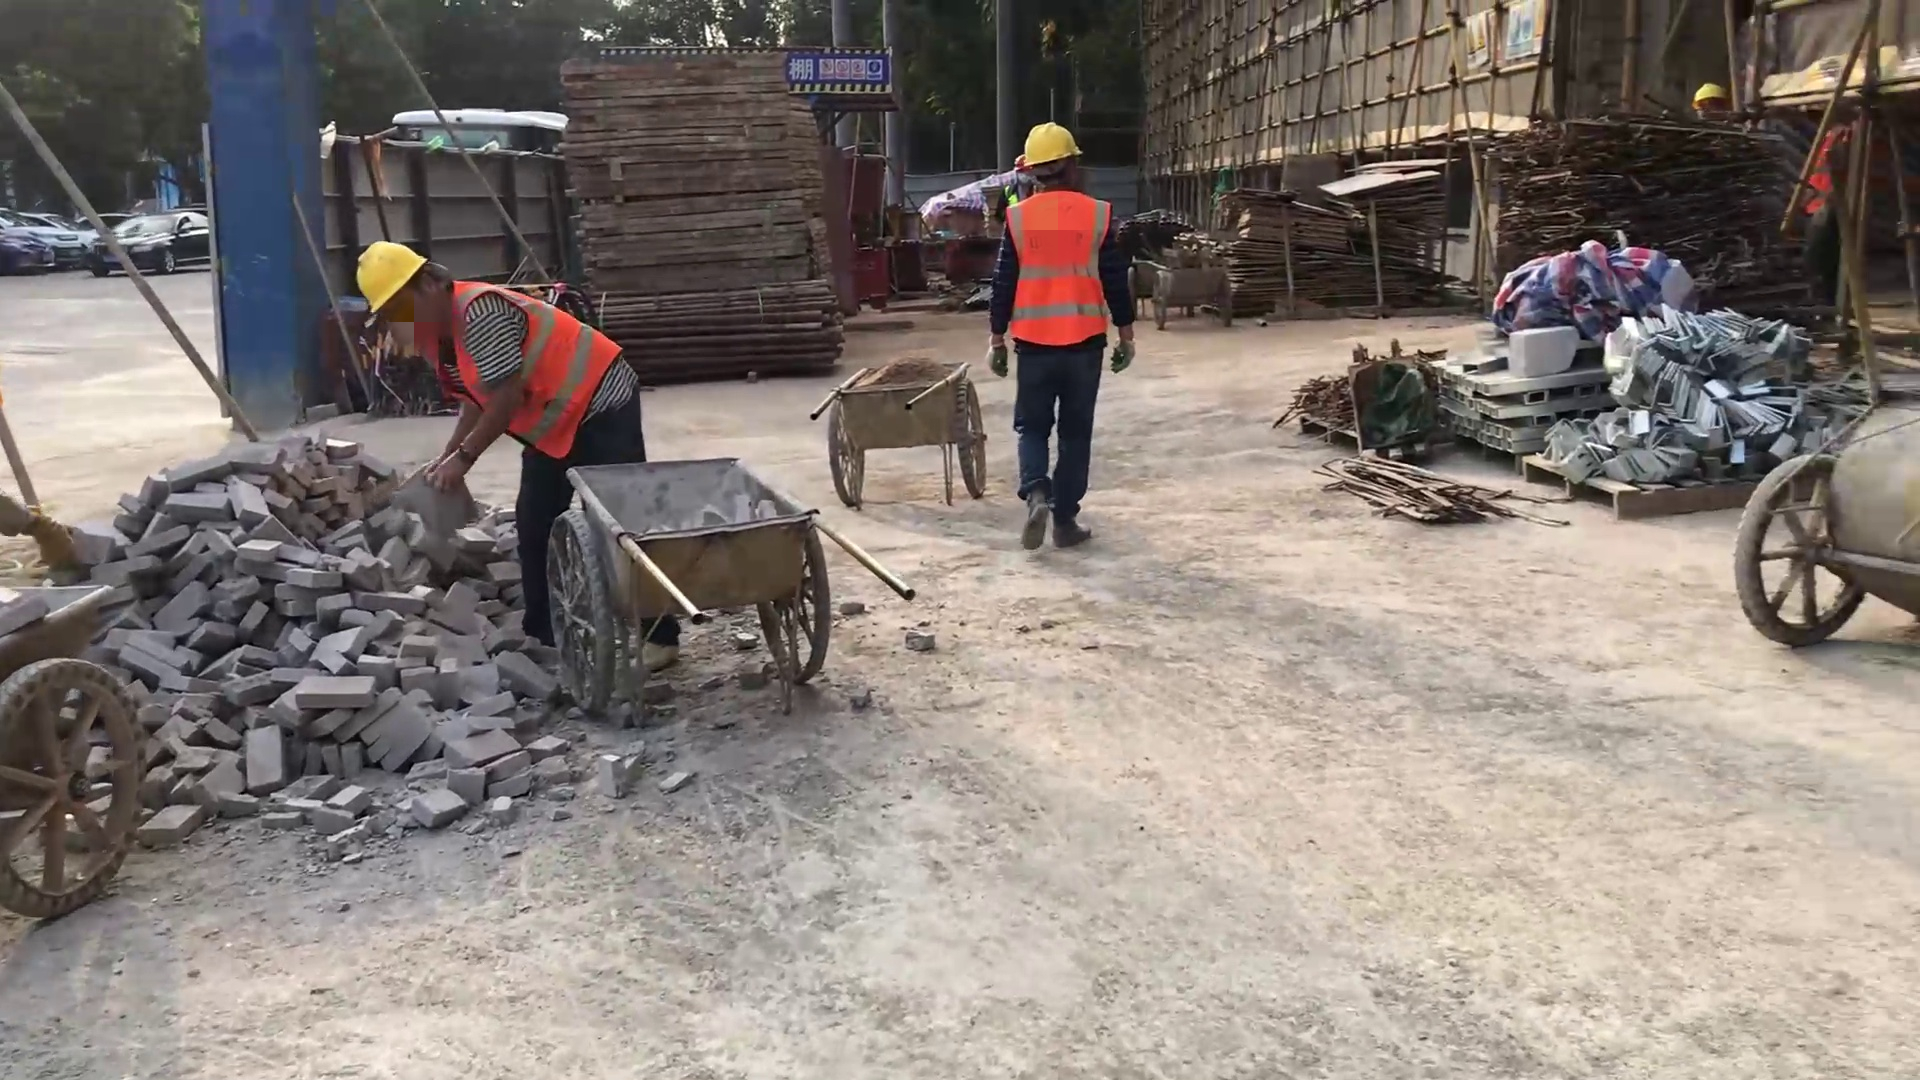board: (1222, 157, 1452, 315)
handcart: (544, 453, 918, 720), (1, 576, 153, 921), (1728, 390, 1920, 650), (808, 357, 990, 515), (1148, 266, 1237, 333)
helmet: (353, 238, 431, 319), (1016, 117, 1083, 182), (1686, 76, 1730, 107), (1011, 152, 1032, 173)
person: (353, 238, 686, 682), (979, 118, 1139, 555)
scaffold: (585, 283, 849, 378)
slogan: (785, 47, 893, 92), (1503, 1, 1549, 59), (1462, 9, 1491, 72)
vest: (1004, 188, 1112, 349), (1795, 122, 1848, 215), (1002, 179, 1040, 204)
wood: (551, 49, 828, 284)
